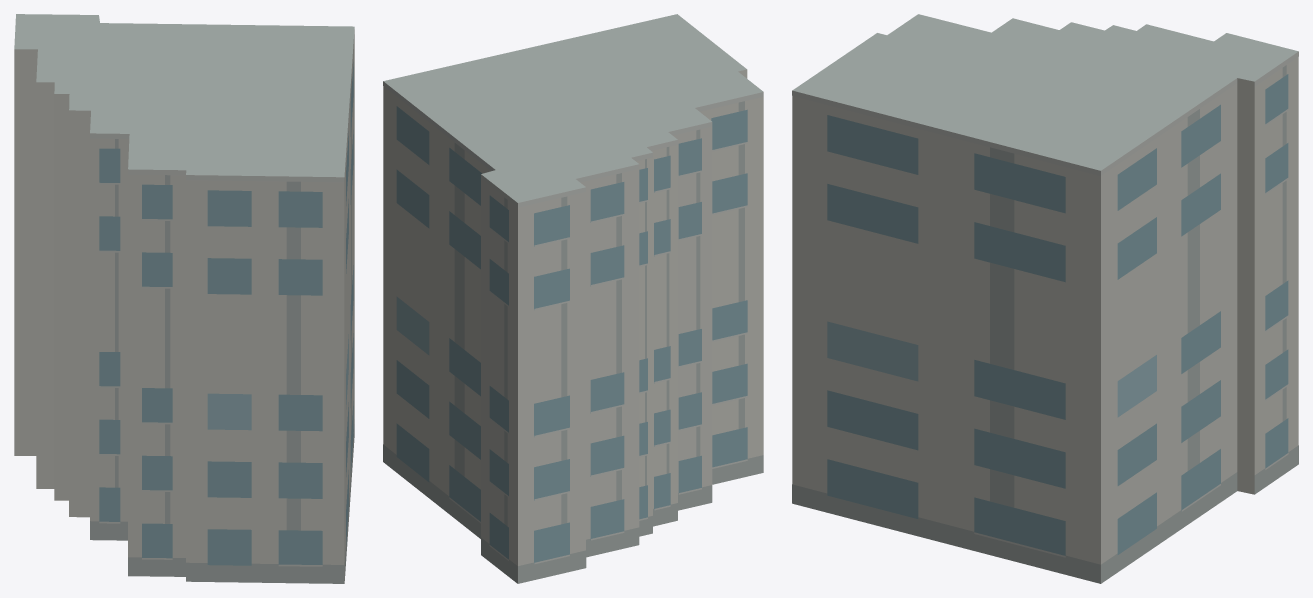
Rendered from survey-upis-32966099.glb.
3 renders of one model, left to right at view 1: azimuth 30°, elevation 25°; view 2: azimuth 150°, elevation 25°; view 3: azimuth 270°, elevation 25°, orthographic. The views are drawn at different scales.
Parts seen in each view (by area): view 1: survey-upis-32966099.tmp; view 2: survey-upis-32966099.tmp; view 3: survey-upis-32966099.tmp.
Part boxes in pixels (x1=…): survey-upis-32966099.tmp: x1=14, y1=14, x2=354, y2=583; survey-upis-32966099.tmp: x1=383, y1=14, x2=763, y2=583; survey-upis-32966099.tmp: x1=792, y1=14, x2=1298, y2=583.
Bounding box in the file's own units: 15.65 × 19.2 × 21.35.
